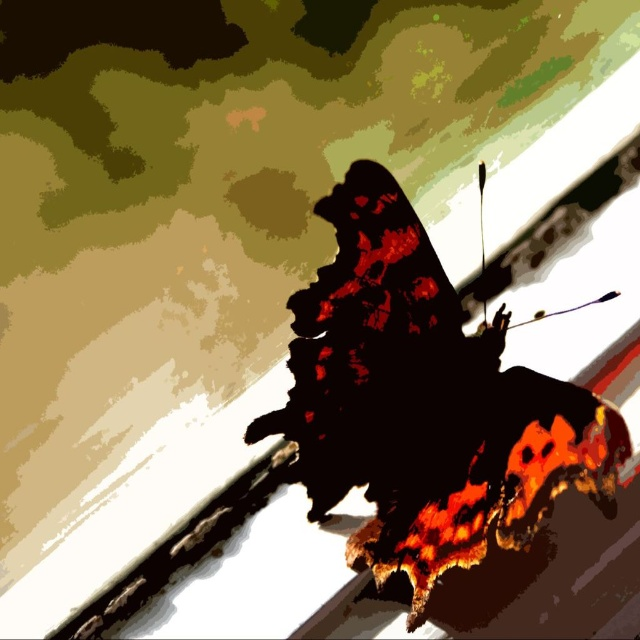Butterfly: (225, 139, 594, 595)
